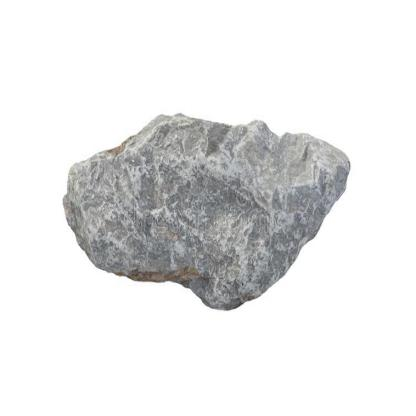Sedimentary_Limestone: (54, 95, 354, 309)
